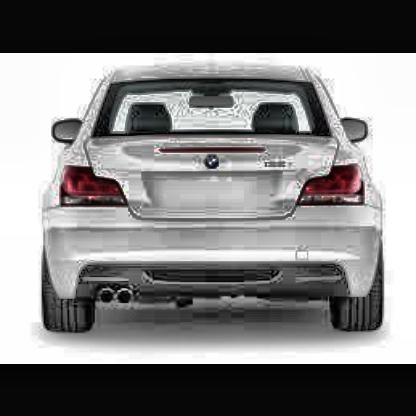BMW 1 Series Convertible 2012: (45, 70, 388, 336)
